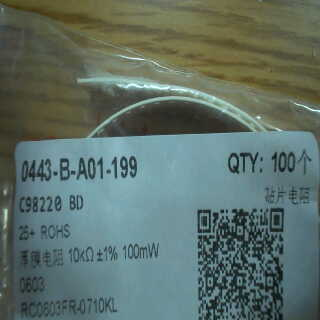10kR: (67, 243, 95, 266)
